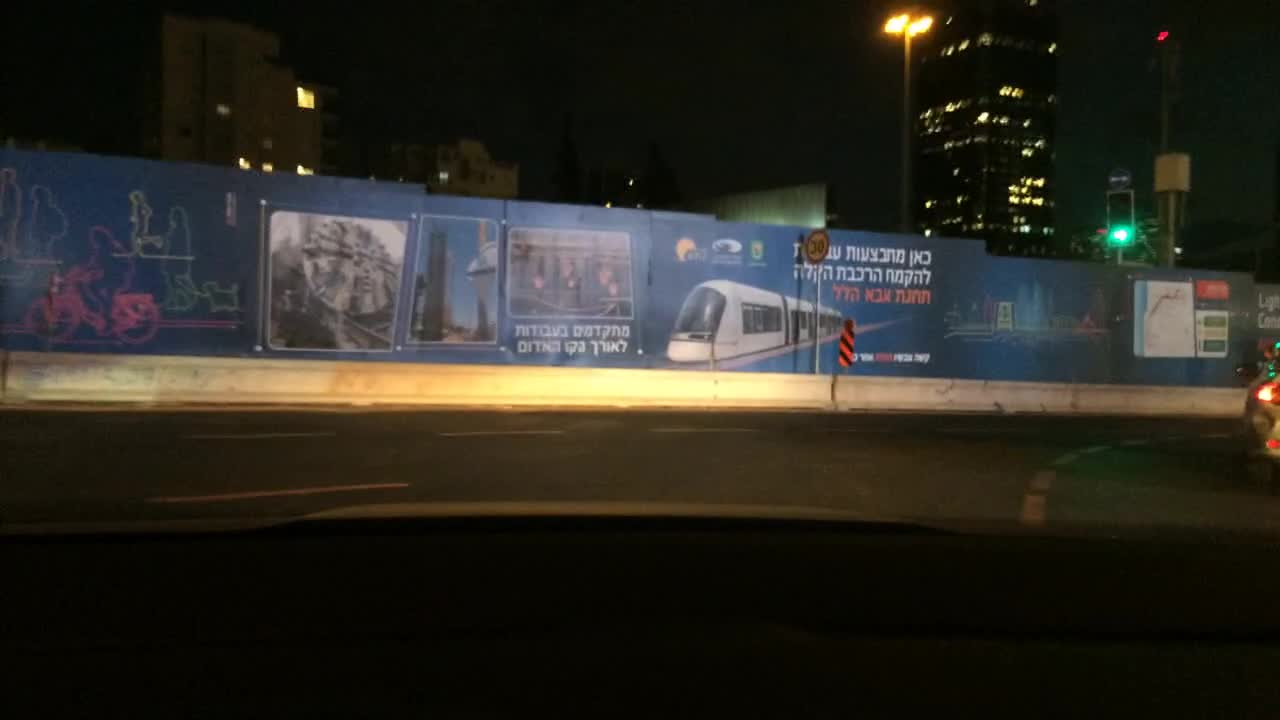car: (1239, 339, 1279, 475)
traffic light: (1107, 192, 1134, 245), (1151, 27, 1171, 44)
traffic sign: (837, 315, 853, 367), (805, 229, 829, 262), (1105, 167, 1131, 187)
